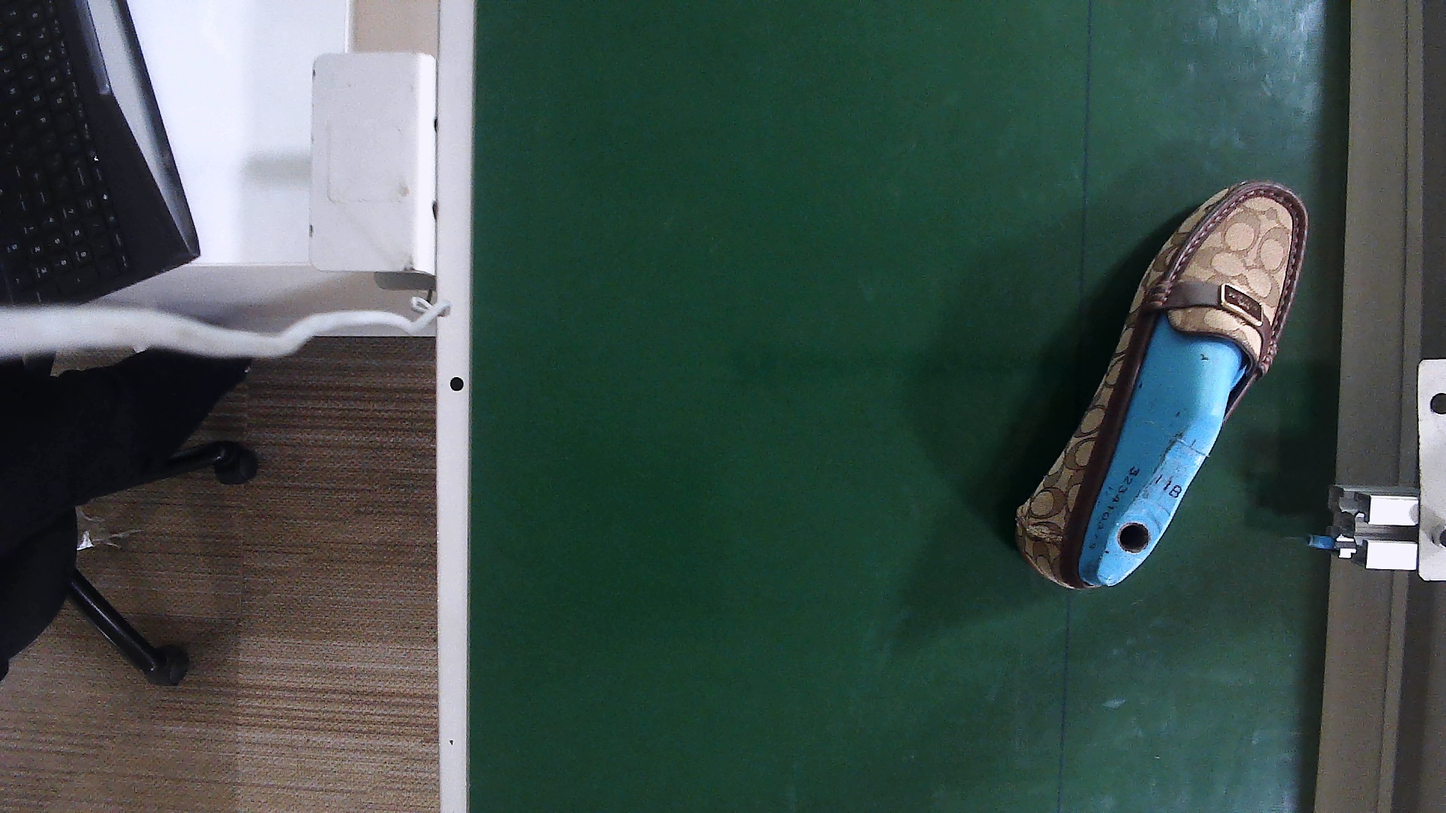shoe: (1018, 184, 1305, 589)
